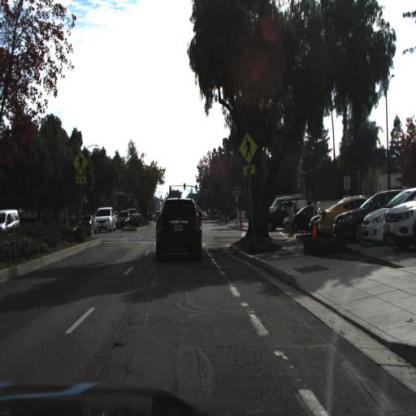car: (333, 187, 404, 246), (154, 193, 206, 270), (363, 183, 416, 252), (320, 195, 372, 238), (334, 197, 377, 246), (311, 195, 354, 242), (358, 204, 389, 248), (266, 202, 302, 231), (279, 206, 313, 235), (92, 205, 119, 236), (1, 209, 23, 245), (40, 215, 65, 236), (117, 210, 134, 232)
pedestrian: (284, 199, 296, 240)
